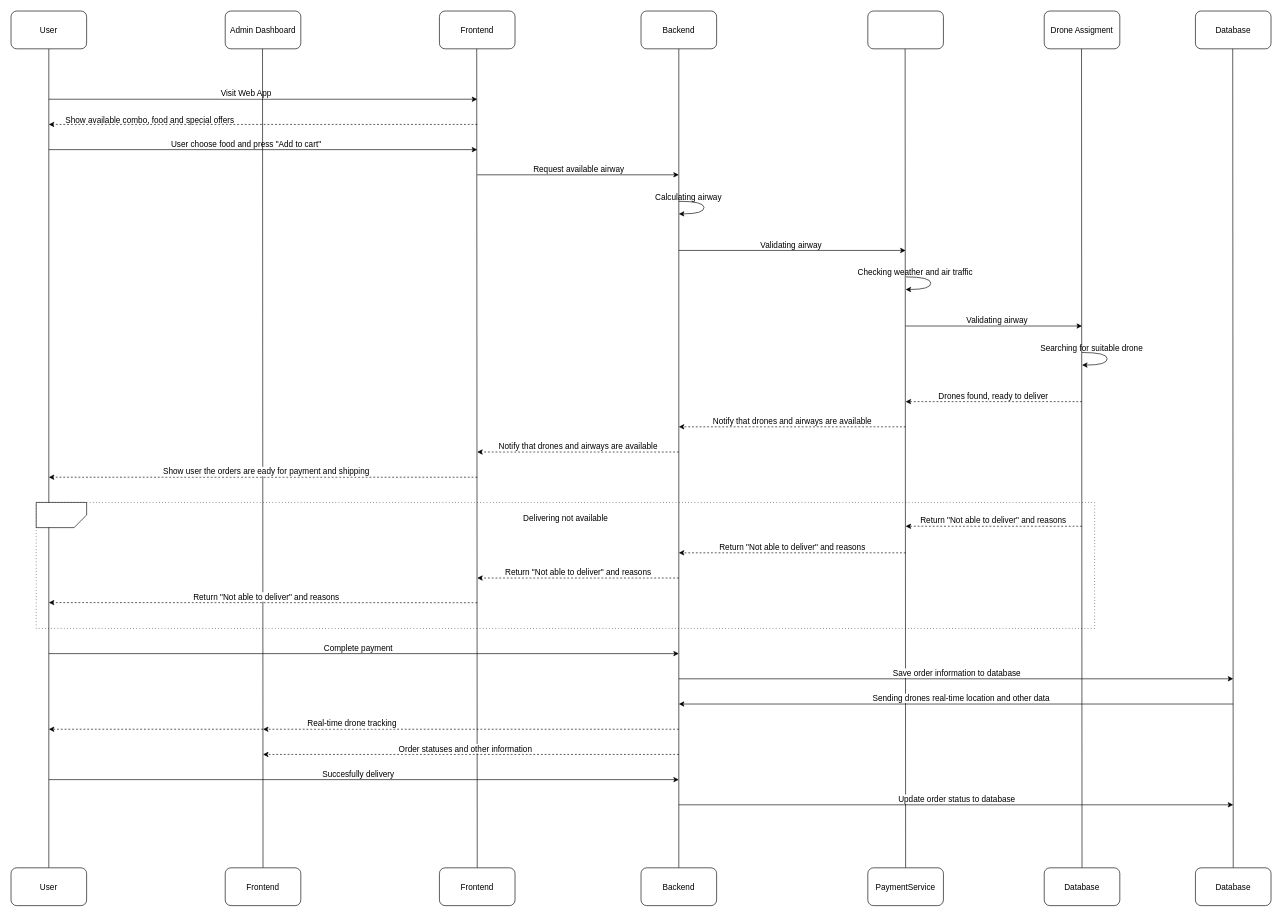
This 1282x917 diagram has some shape labels left out. Here are the shapes that lost their labels. From the top down, the centre of each, then its label:
the point at 905,29: Navigation-related Service
the point at 61,515: alt
